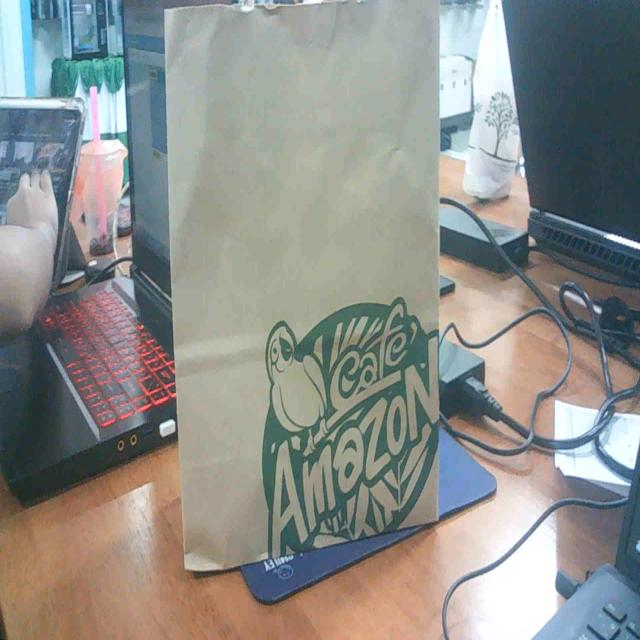bag: (167, 25, 461, 558)
